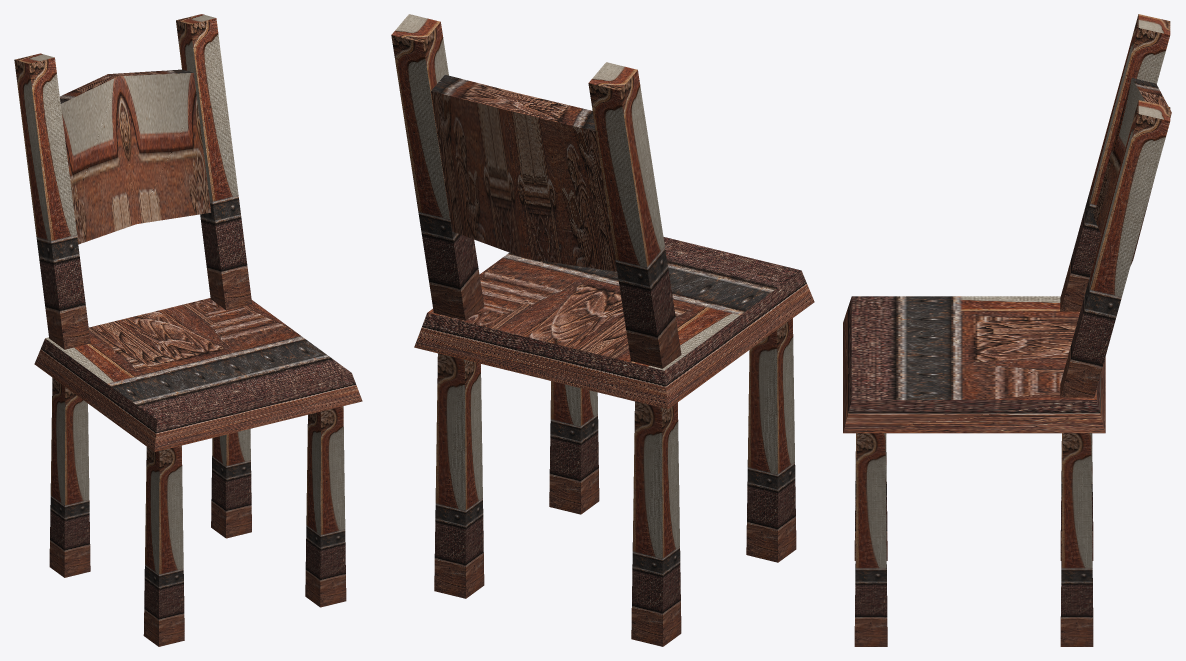
Rendered from mm9_deco_chairskin1.glb.
3 renders of one model, left to right at view 1: azimuth 30°, elevation 25°; view 2: azimuth 150°, elevation 25°; view 3: azimuth 270°, elevation 25°, orthographic. The views are drawn at different scales.
Visible parts, largest first — view 1: Chairskin1; view 2: Chairskin1; view 3: Chairskin1.
Boxes of the visible parts, x1,y1,x2,y2 form: Chairskin1: (14, 14, 362, 646); Chairskin1: (391, 14, 814, 646); Chairskin1: (843, 14, 1171, 646).
Bounding box in the file's own units: 0.6517 × 1.46 × 0.8163.
Materials: 1 (1 with a texture image).
